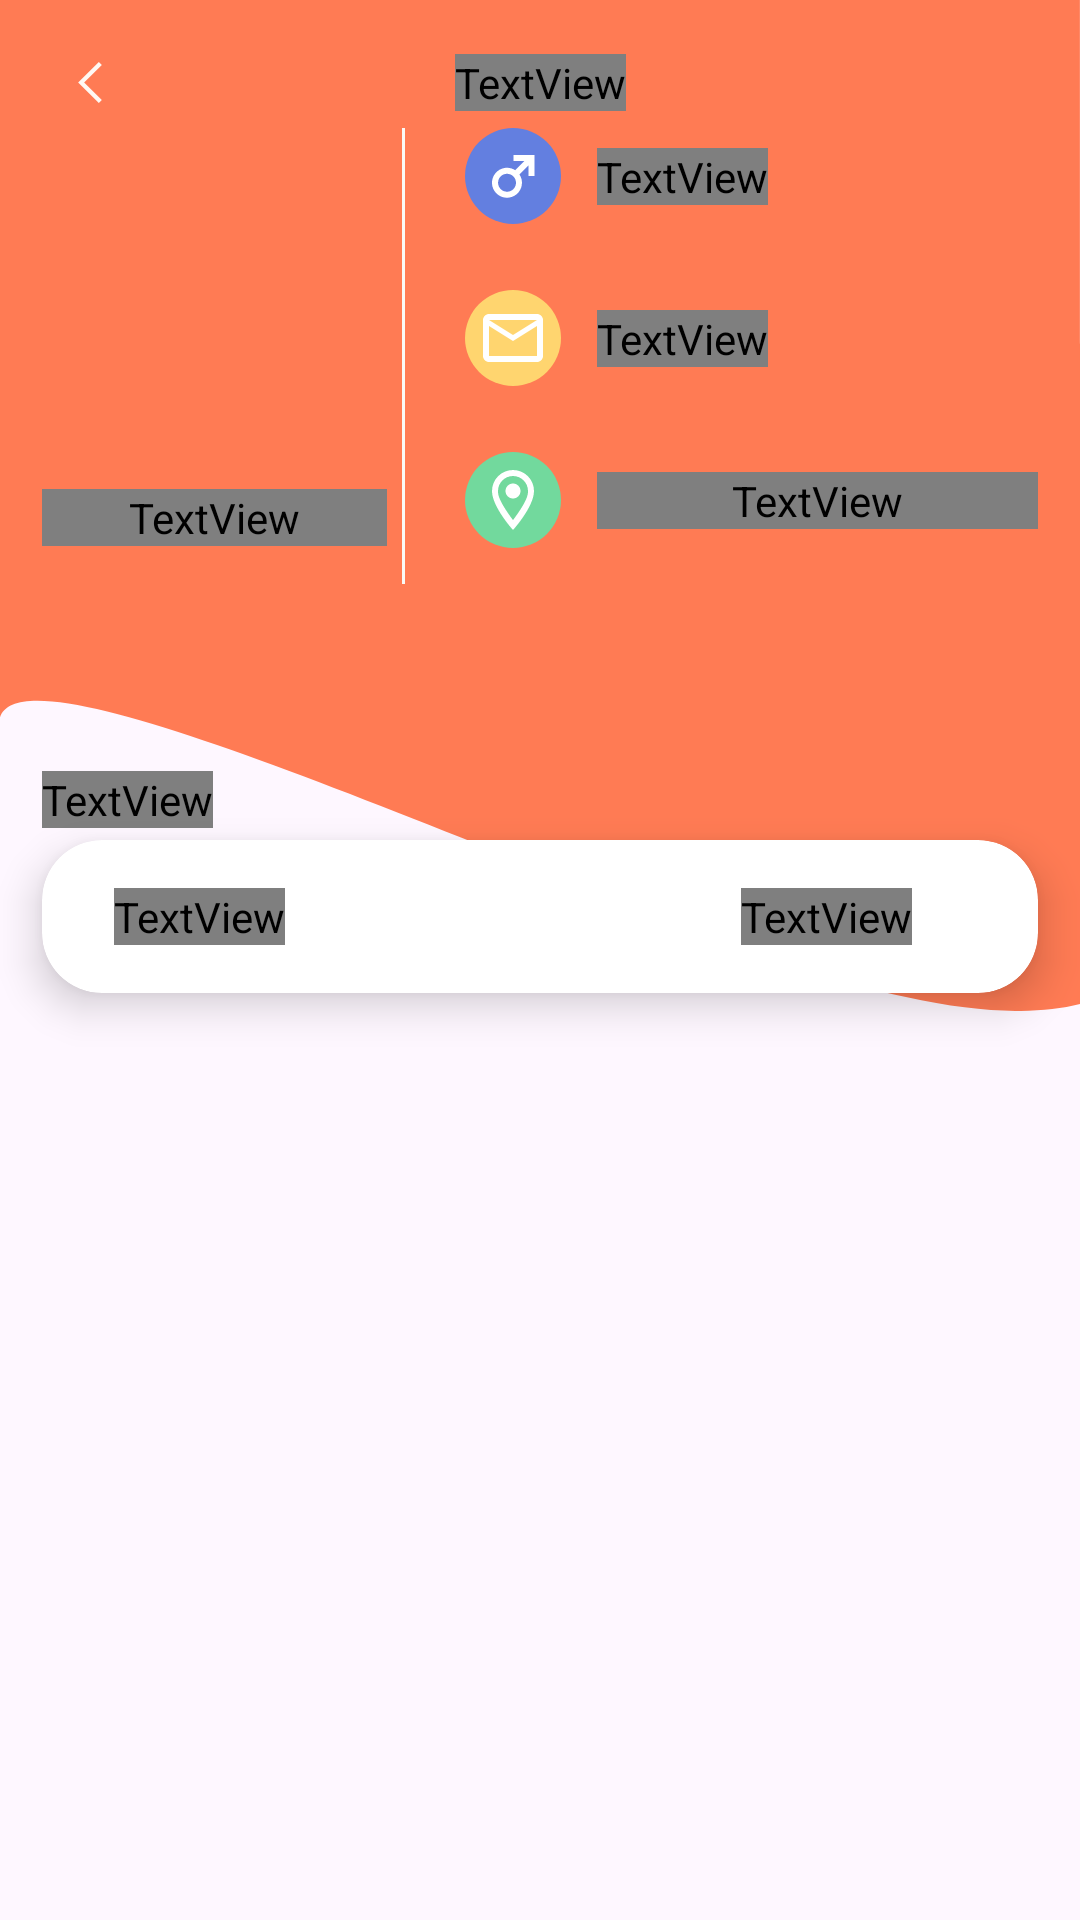

Where icons sit on this 1080w x 1920h app screen, as (left=x1, top=y1, right=x2, bottom=y2):
address: (left=465, top=452, right=561, bottom=548)
back arrow: (left=78, top=62, right=102, bottom=103)
email: (left=465, top=290, right=561, bottom=386)
gender: (left=465, top=128, right=561, bottom=224)
